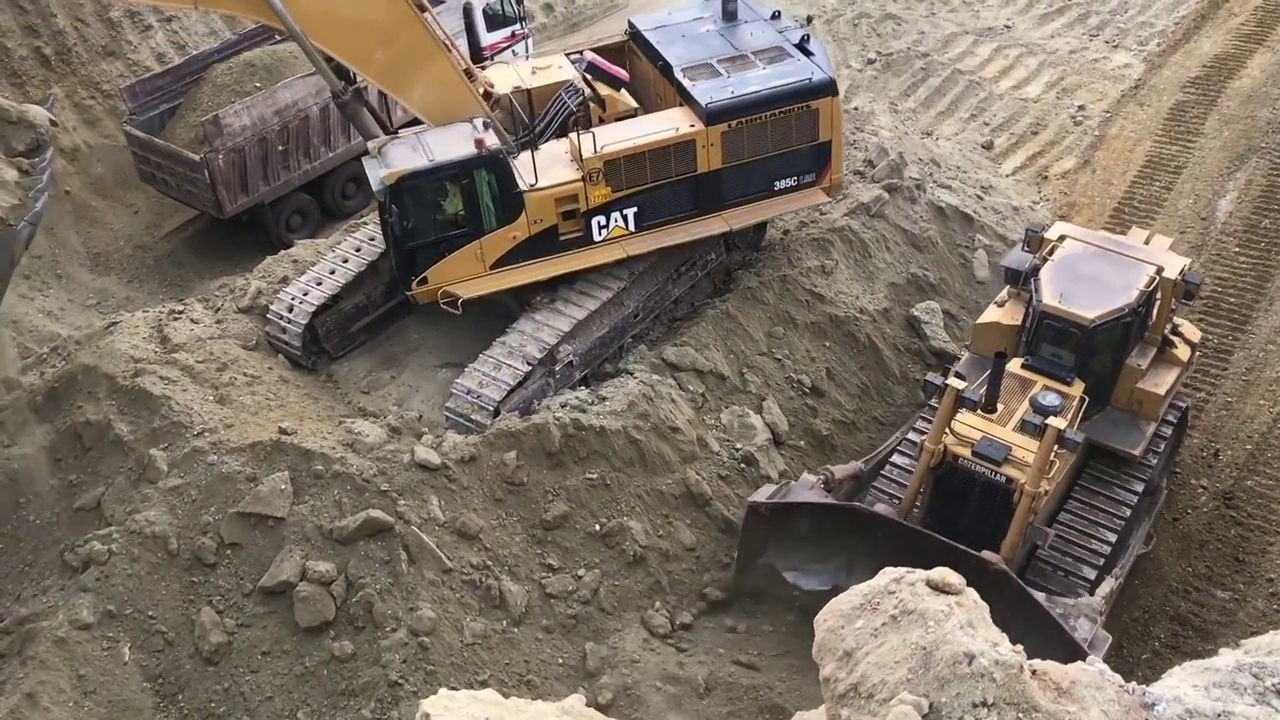bulldozer: (738, 206, 1208, 705)
excavator: (4, 10, 850, 454)
truck: (110, 1, 556, 240)
